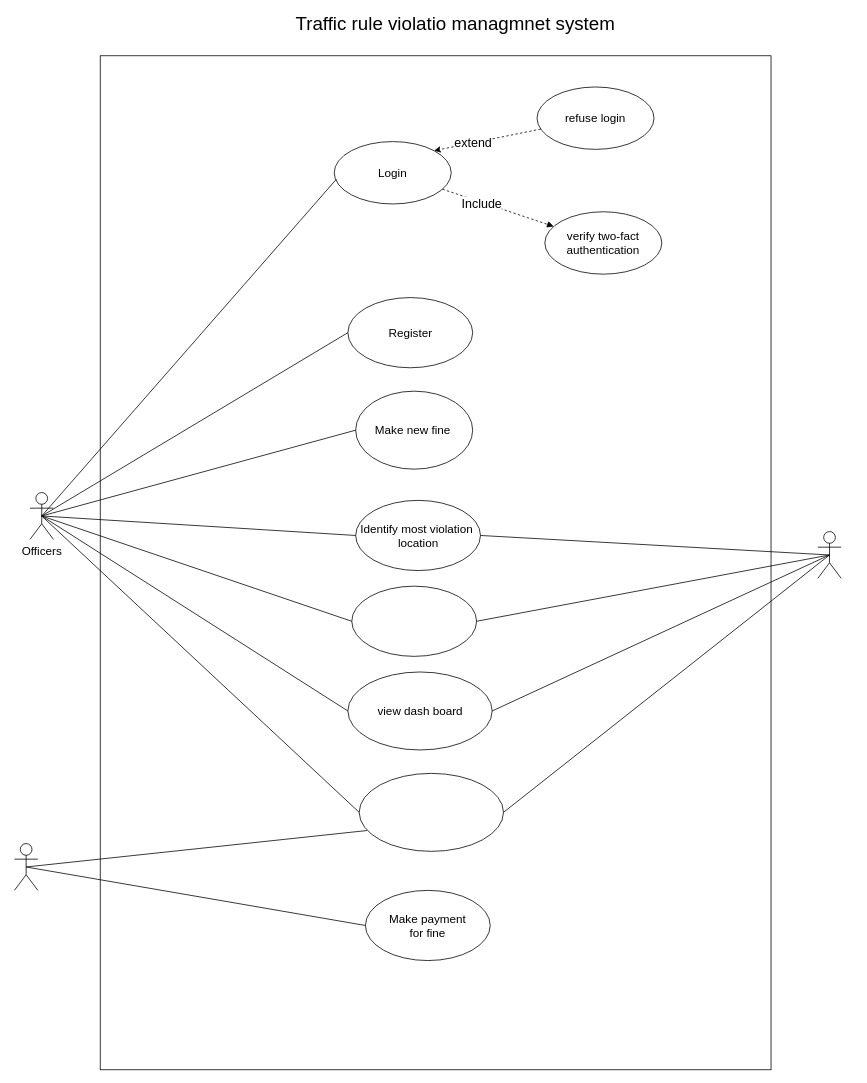
This 867x1083 diagram has some shape labels left out. Here are the shapes that lost their labels. From the top down, the centre of each, then its label:
At pixel 829 554: "Database".
At pixel 414 620: "get prediction report".
At pixel 430 812: "View driving license details".
At pixel 26 866: "User".
